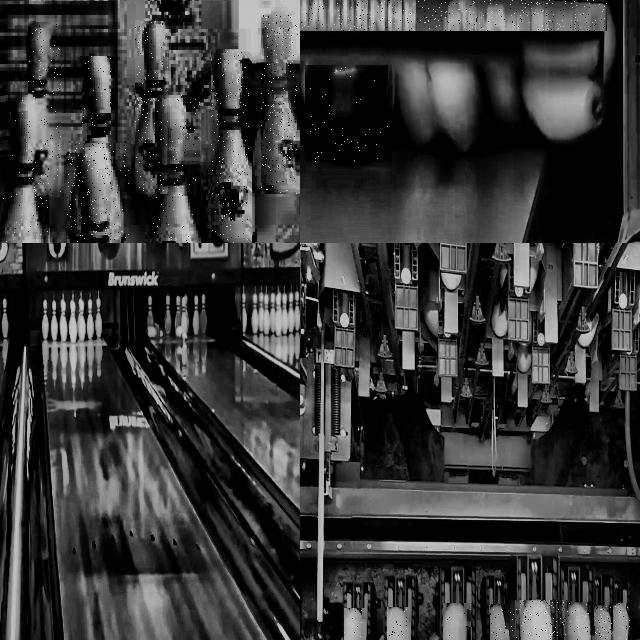bowling-ball: (306, 65, 390, 162)
bowling-pins: (212, 50, 249, 243), (0, 95, 47, 243), (153, 95, 200, 243), (262, 15, 298, 194), (135, 20, 168, 193), (28, 23, 61, 195), (81, 143, 113, 243), (82, 57, 111, 132), (566, 603, 592, 640), (444, 604, 468, 640), (387, 607, 407, 640), (595, 605, 612, 640), (614, 604, 630, 640), (490, 605, 506, 640), (345, 609, 363, 640), (69, 302, 77, 343), (78, 301, 86, 342), (86, 299, 94, 340), (42, 299, 49, 340), (95, 298, 102, 338), (51, 301, 58, 340), (200, 294, 207, 333), (192, 296, 199, 334), (282, 293, 288, 334), (61, 301, 67, 342), (2, 298, 8, 338), (270, 293, 276, 333), (275, 296, 281, 336), (252, 294, 258, 333), (294, 292, 300, 331), (288, 293, 294, 332), (165, 296, 171, 334), (175, 296, 181, 331), (181, 298, 187, 333), (264, 295, 269, 334), (242, 293, 247, 332), (147, 296, 153, 328), (259, 293, 264, 331), (184, 295, 189, 332)
sweep board: (300, 0, 607, 31)
